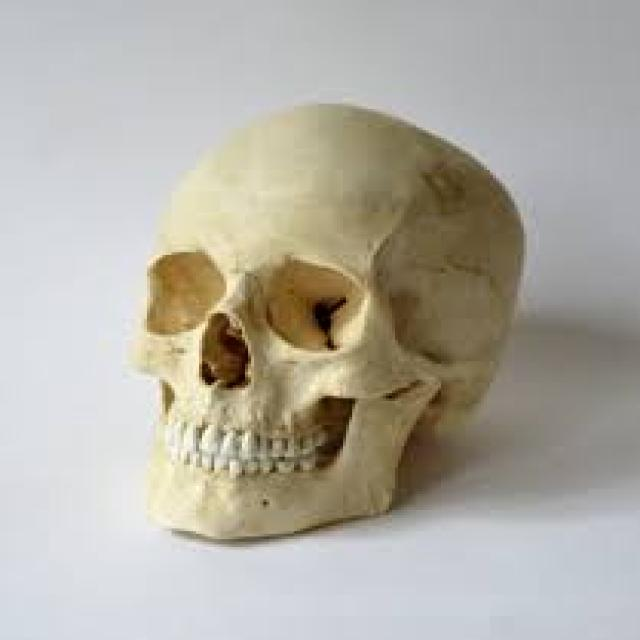skull: (117, 73, 554, 564)
